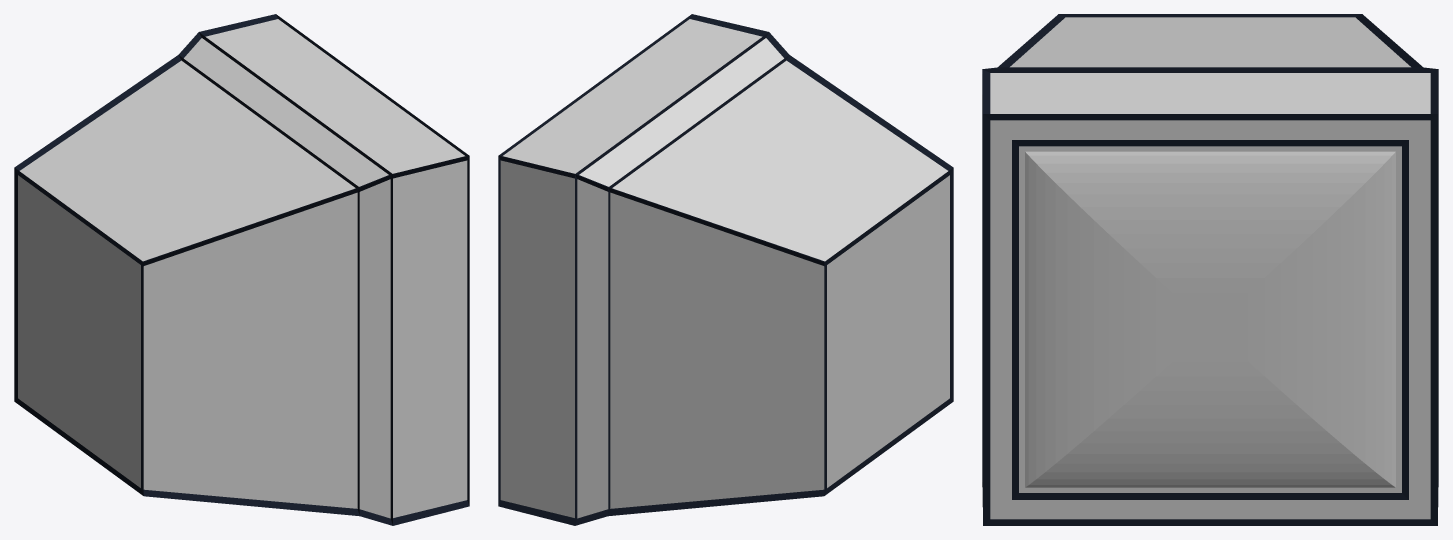
Rendered from crt.glb.
3 renders of one model, left to right at view 1: azimuth 30°, elevation 25°; view 2: azimuth 150°, elevation 25°; view 3: azimuth 270°, elevation 25°, orthographic. The views are drawn at different scales.
Visible parts, largest first — view 1: CRT; view 2: CRT; view 3: CRT.
Boxes of the visible parts, left/top/right/bottom form: CRT: left=14, top=14, right=469, bottom=525; CRT: left=498, top=14, right=953, bottom=525; CRT: left=982, top=14, right=1438, bottom=525.
Size of the model in its own units: 1.85 by 2.04 by 2.04.
